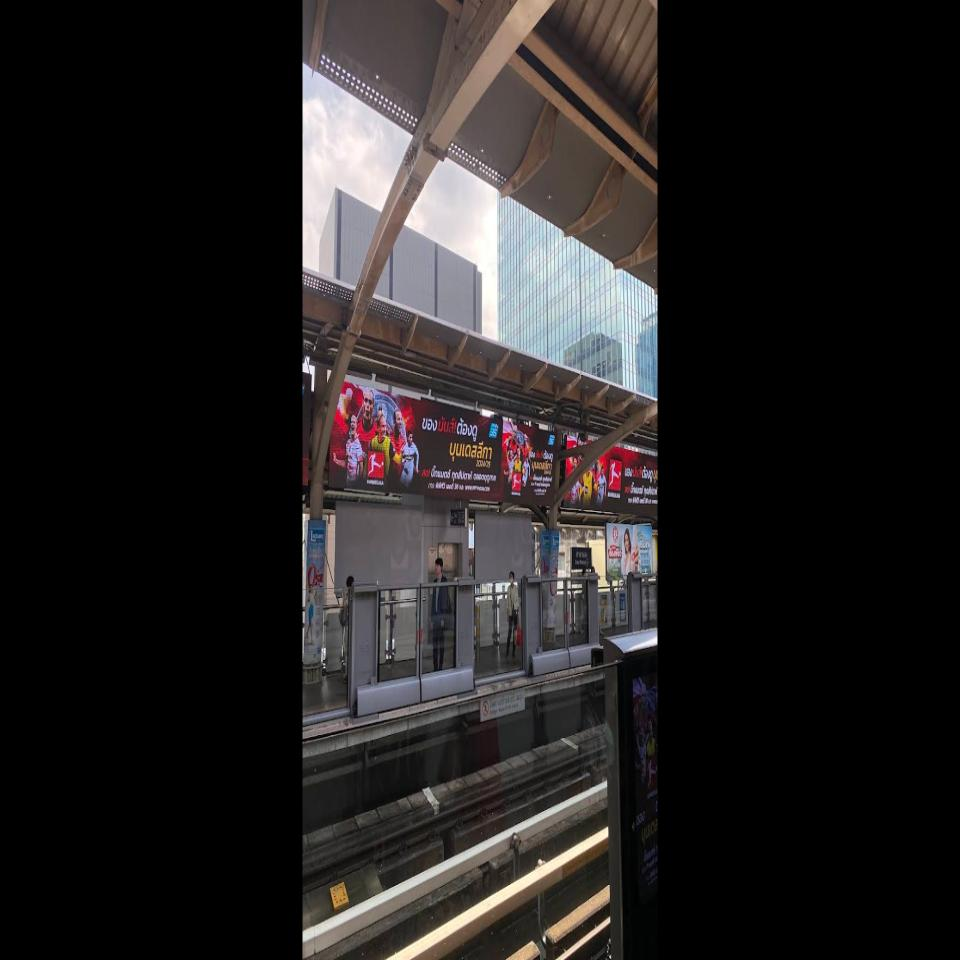signage: (570, 546, 592, 570)
